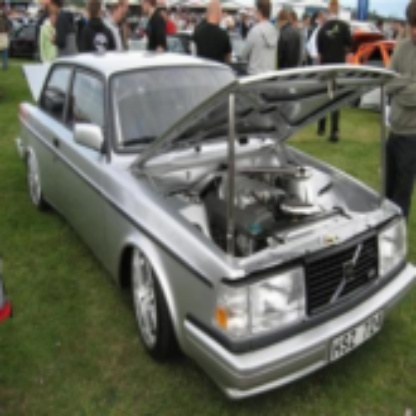Vehicle: (15, 50, 415, 405)
